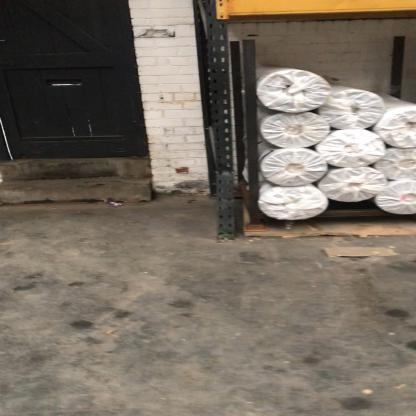vertical_damage: (210, 156, 245, 187)
